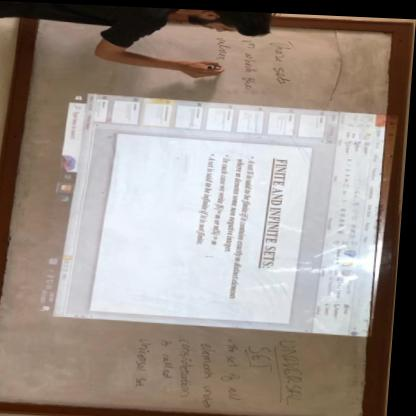Handwritten text: (283, 332, 315, 403), (223, 333, 253, 406), (175, 334, 205, 401), (134, 332, 165, 389), (200, 337, 224, 408), (268, 37, 302, 84), (237, 34, 264, 93), (253, 338, 285, 370), (211, 28, 237, 59)
Whiteboard: (0, 9, 407, 416)
